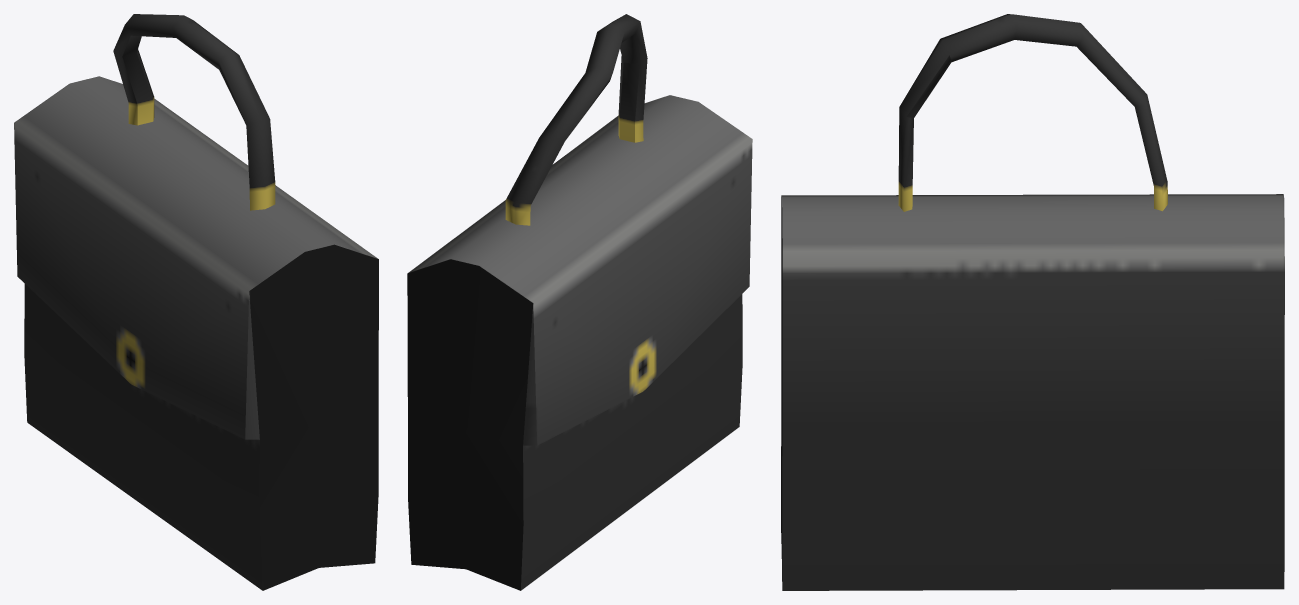
File: FSbag.FBX
3 renders of one model, left to right at view 1: azimuth 30°, elevation 25°; view 2: azimuth 150°, elevation 25°; view 3: azimuth 270°, elevation 25°, orthographic. The views are drawn at different scales.
Parts seen in each view (by area): view 1: Handbag_Ground; view 2: Handbag_Ground; view 3: Handbag_Ground.
Boxes of the visible parts, x1,y1,x2,y2 form: Handbag_Ground: (14, 14, 378, 590); Handbag_Ground: (407, 14, 752, 590); Handbag_Ground: (781, 14, 1284, 590).
Bounding box in the file's own units: 0.067 × 0.2344 × 0.2013.
